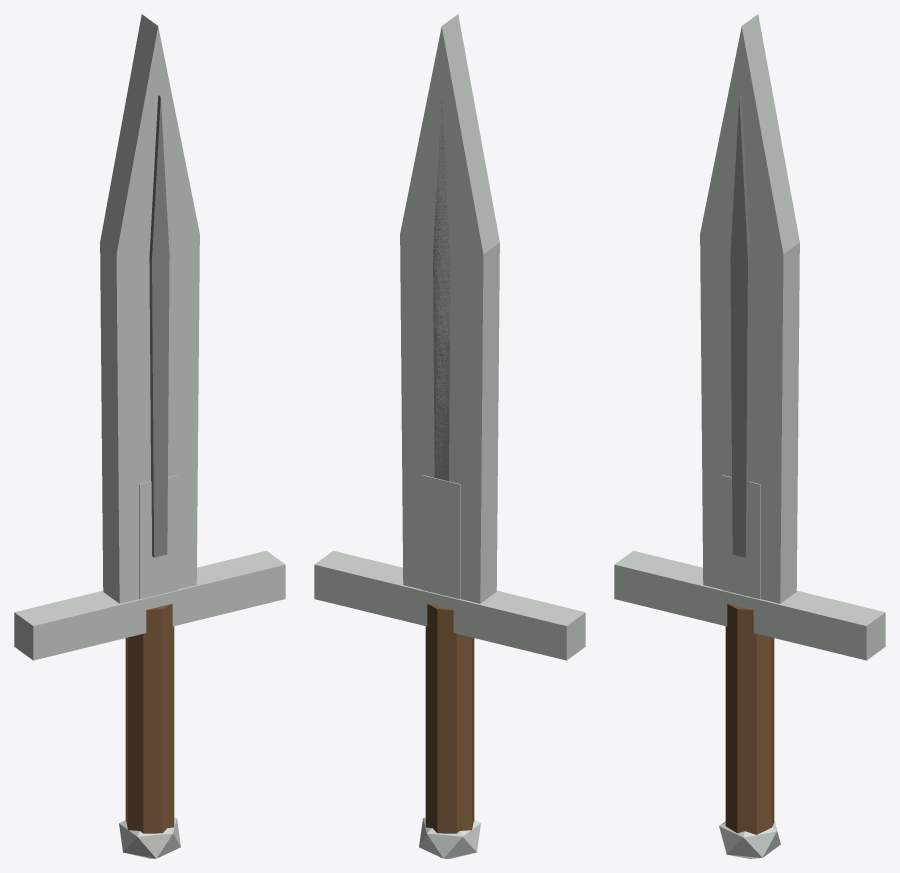
Rendered from ironSword.glb.
3 views of the same model, side by side, from view 1: azimuth 30°, elevation 25°; view 2: azimuth 150°, elevation 25°; view 3: azimuth 330°, elevation 25° (orthographic).
Parts seen in each view (by area): view 1: Blade, Guard, Grip, BladeRidge, BladeTang, Pommel; view 2: Blade, Guard, Grip, BladeRidge, BladeTang, Pommel; view 3: Blade, Guard, Grip, BladeRidge, BladeTang, Pommel.
Part boxes in pixels (x1,y1,x2,y2): Blade: (100,14,199,603); Guard: (14,550,285,660); Grip: (125,603,174,833); BladeRidge: (149,95,169,557); BladeTang: (139,475,177,599); Pommel: (119,817,180,858); Blade: (400,14,499,603); Guard: (314,550,585,660); Grip: (425,603,474,833); BladeRidge: (433,97,450,481); BladeTang: (422,475,460,599); Pommel: (419,817,480,858); Blade: (700,14,799,603); Guard: (614,550,885,660); Grip: (725,603,774,834); BladeRidge: (730,95,750,557); BladeTang: (722,475,760,599); Pommel: (719,821,780,858).
Bounding box in the file's own units: 0.46 × 1.46 × 0.0936.
